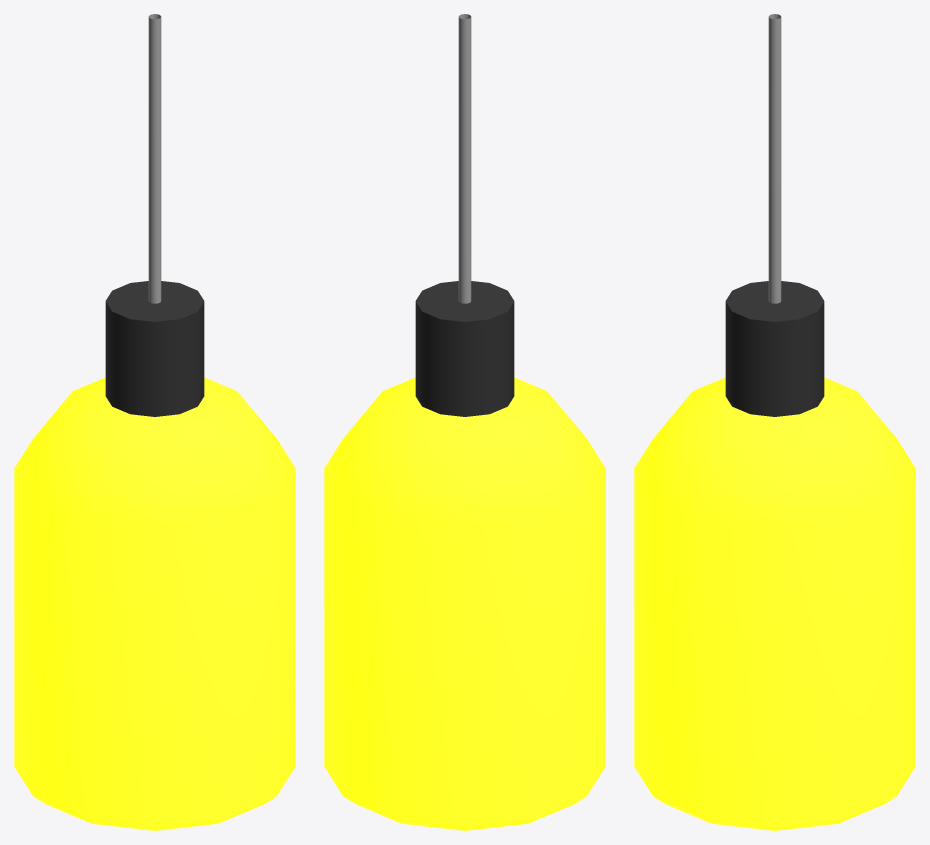
The model's file is lampion.FBX.
3 views of the same model, side by side, from view 1: azimuth 30°, elevation 25°; view 2: azimuth 150°, elevation 25°; view 3: azimuth 270°, elevation 25° (orthographic).
Visible parts, largest first — view 1: lampion; view 2: lampion; view 3: lampion.
Boxes of the visible parts, x1,y1,x2,y2 form: lampion: (14, 14, 295, 830); lampion: (324, 14, 605, 830); lampion: (634, 14, 915, 830).
Size of what is drawn, in the model's own units: 11.21 by 11.21 by 33.46.
